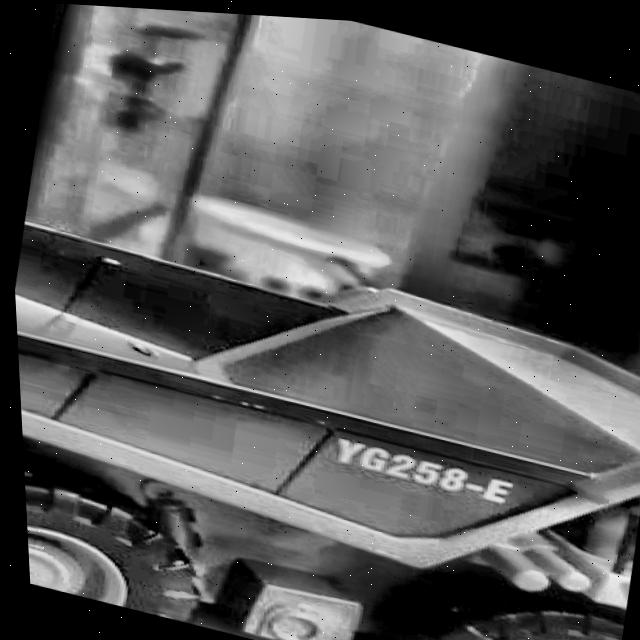dump_truck: (8, 186, 640, 640)
